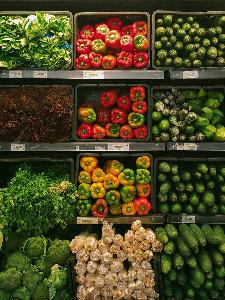bell_pepper: (77, 152, 151, 216), (74, 82, 148, 142), (78, 12, 150, 70)
cucumber: (157, 221, 225, 300), (153, 154, 225, 218), (156, 14, 224, 76)
